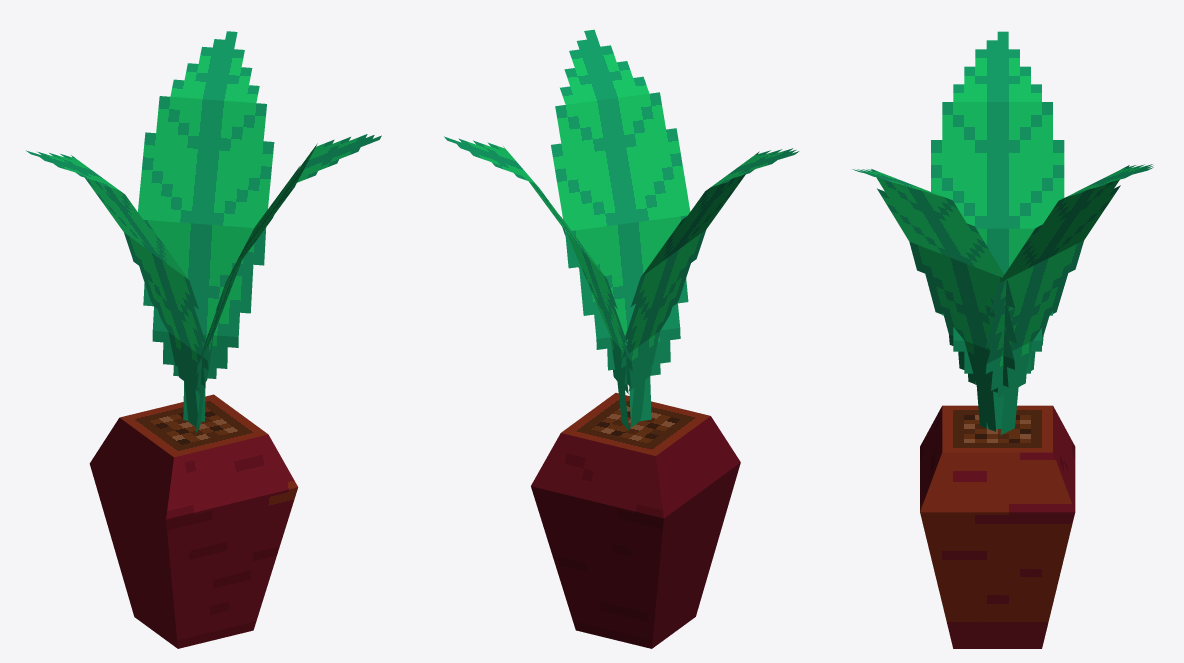
Rendered from pottedplant.fbx.
The picture shows the model from 3 angles, left to right: view 1: azimuth 30°, elevation 25°; view 2: azimuth 150°, elevation 25°; view 3: azimuth 270°, elevation 25°; orthographic projection.
Parts seen in each view (by area): view 1: cuboid, plane_2, plane, plane_1; view 2: cuboid, plane_1, plane, plane_2; view 3: cuboid, plane, plane_1, plane_2.
Part boxes in pixels (box(x1,y1,x2,y2)): cuboid: box(89, 394, 298, 648); plane_2: box(138, 31, 274, 421); plane: box(26, 150, 208, 429); plane_1: box(195, 134, 381, 433); cuboid: box(531, 393, 740, 648); plane_1: box(551, 29, 690, 421); plane: box(621, 148, 799, 427); plane_2: box(444, 136, 632, 430); cuboid: box(920, 405, 1075, 648); plane: box(931, 31, 1064, 428); plane_1: box(852, 169, 1017, 431); plane_2: box(985, 164, 1153, 434).
Size of the model in its own units: 206 by 328 by 183.
Materials: 1 (1 with a texture image).
